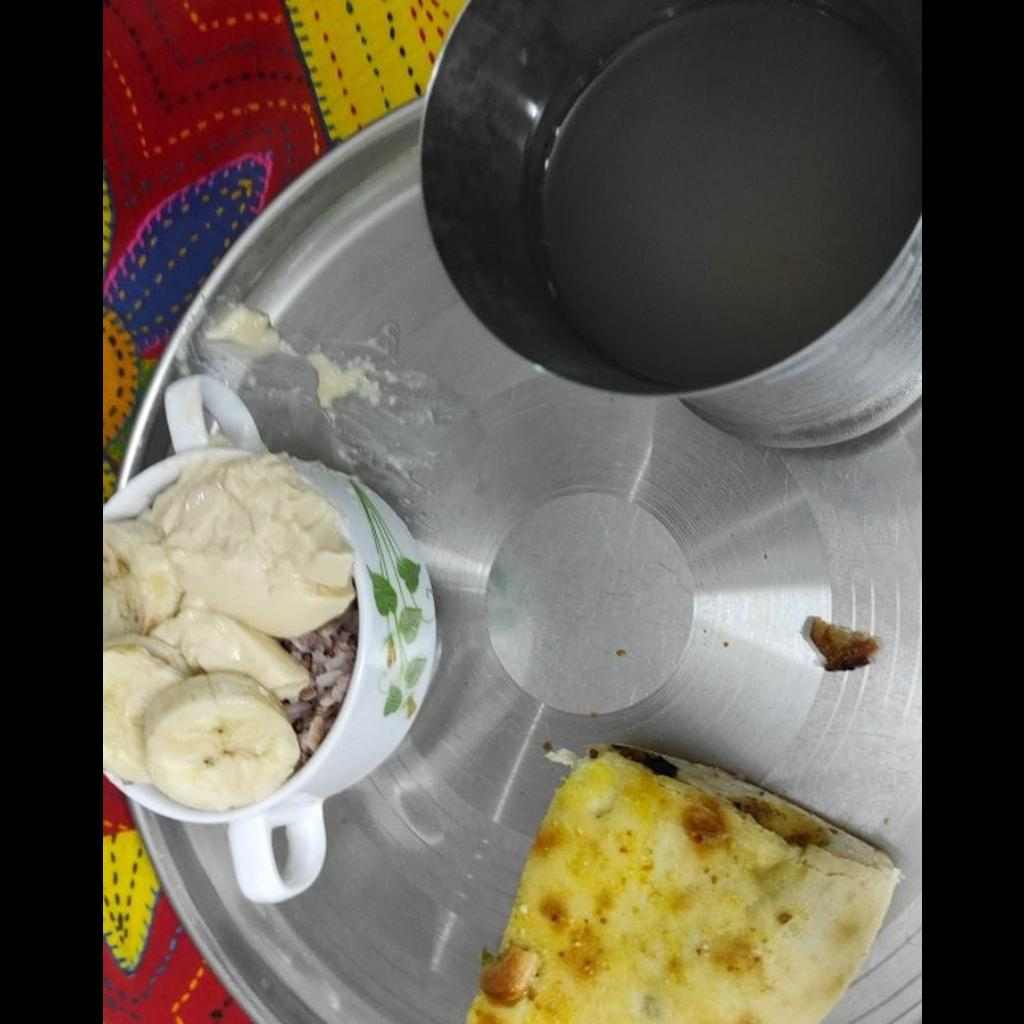banana: (104, 518, 307, 809)
payesh: (141, 454, 357, 762)
ruti: (462, 741, 893, 1022)
